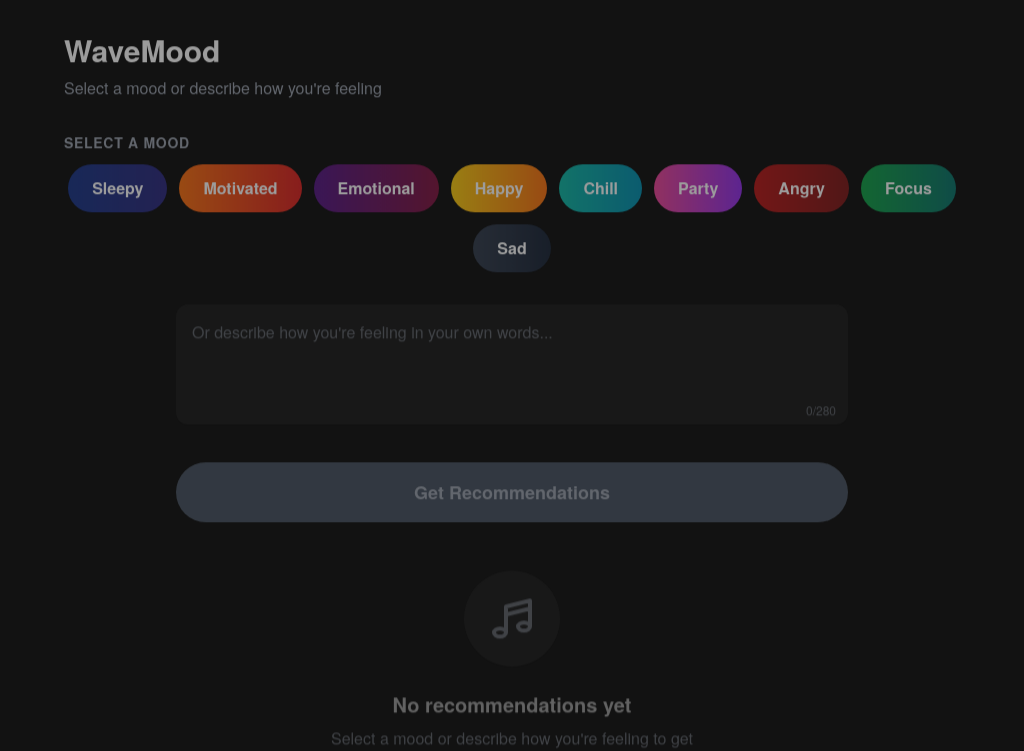
Test: MoodRecommendation › enables submit button when input has text
Type "Happy" into the text box with placeholder "Or describe how you're feeling in your own words..." at (512, 364), box [176,304,848,424]
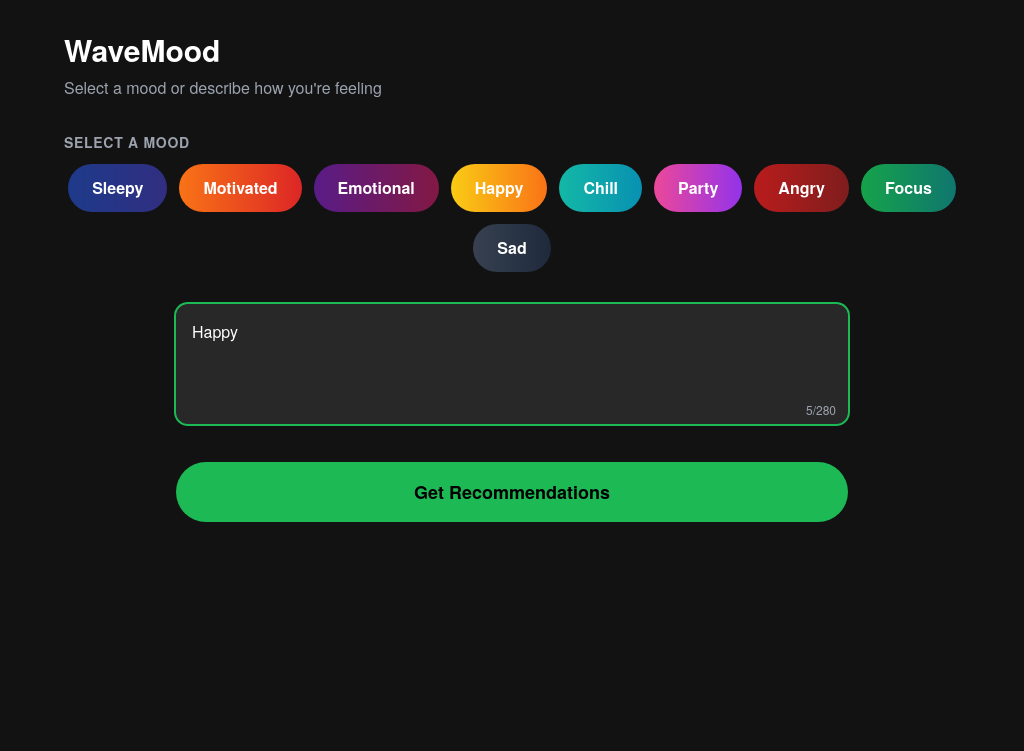
Check: the button "Get Recommendations" is enabled, box [176,462,848,522]
